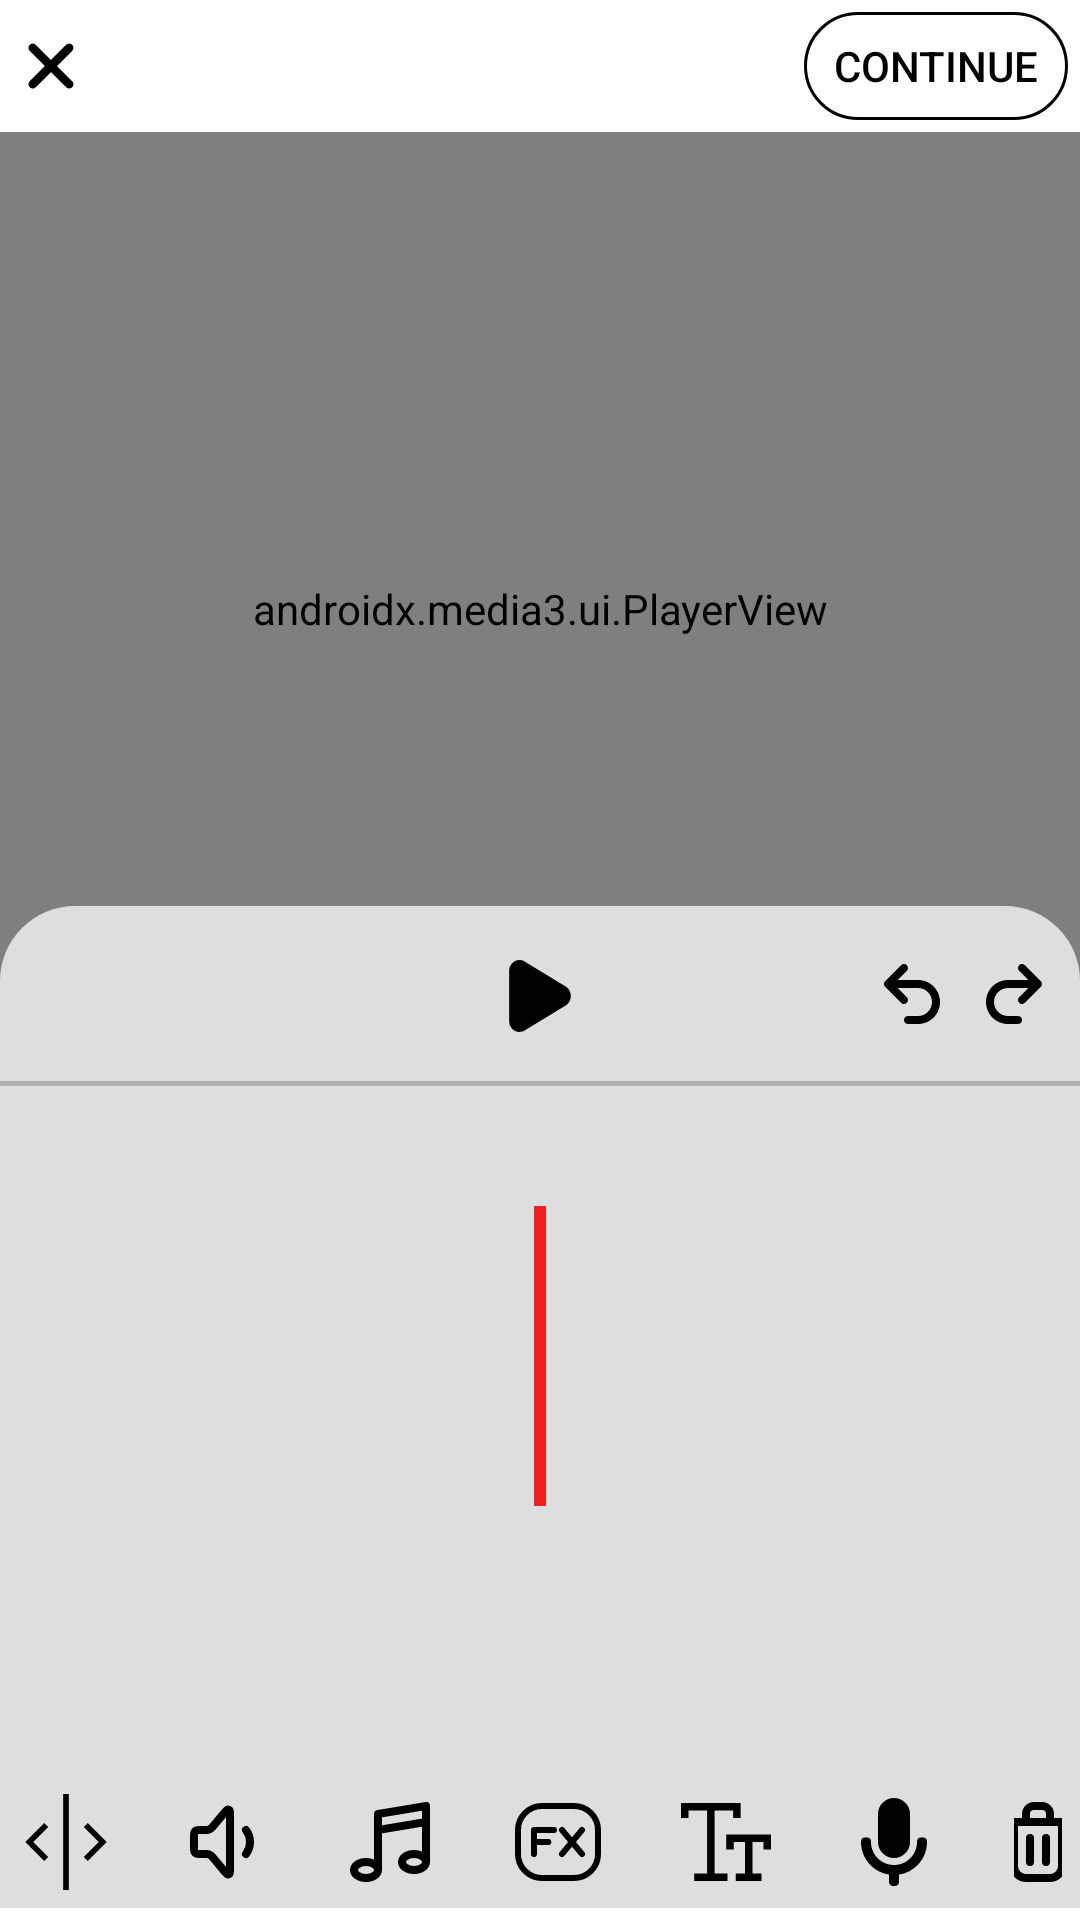

Screen size 1080x1920. Icon name, then its box in pixels as (x1, y1, x2, y2):
add Text: (681, 1803, 771, 1881)
Adjust Volume: (190, 1805, 254, 1879)
back: (28, 43, 74, 89)
delete: (1014, 1802, 1062, 1882)
effects: (515, 1803, 601, 1881)
Music: (350, 1802, 430, 1882)
redo: (986, 964, 1042, 1024)
split: (25, 1794, 107, 1890)
undo: (884, 964, 940, 1024)
Voice Over: (861, 1798, 927, 1886)
